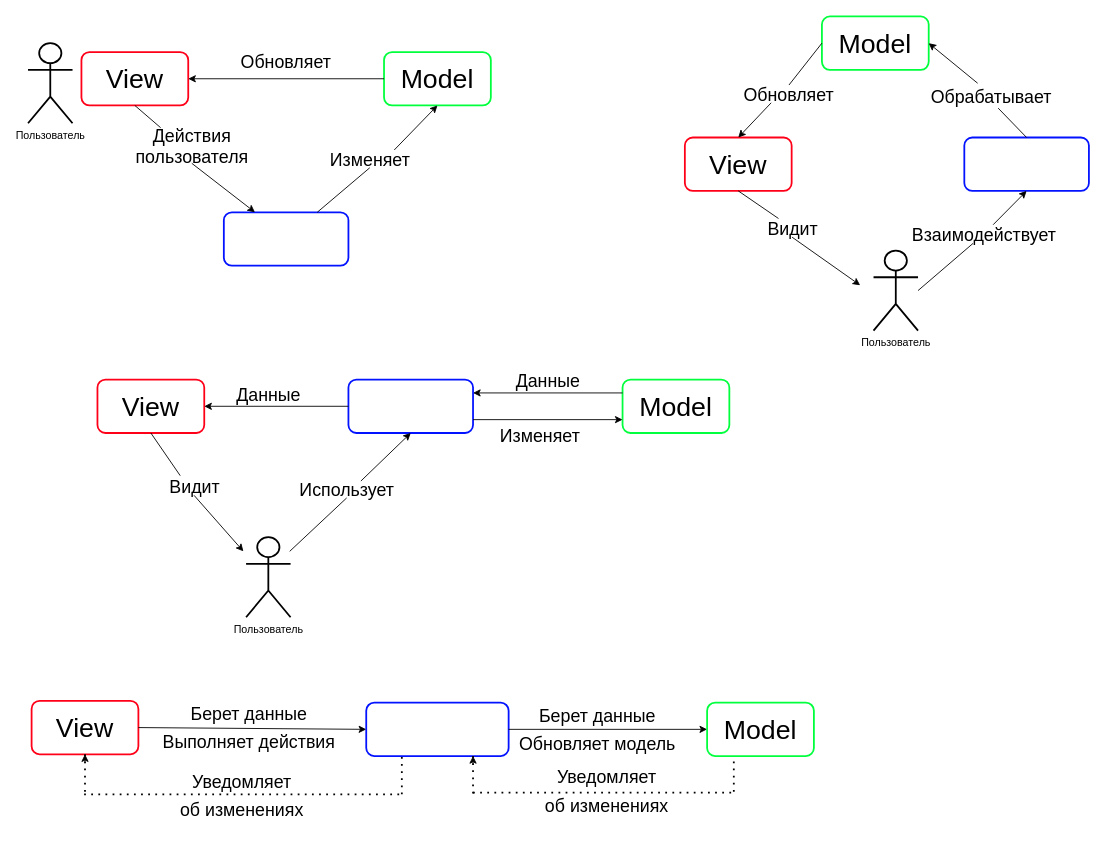
The diagram is 1104 pixels wide and 851 high, and some of its shapes have lost their labels. The box of each missing label's shape, as (x1, y1, x2, y2) in pixels:
Controller: (222, 211, 349, 266)
Intent: (963, 136, 1089, 191)
Presenter: (347, 378, 473, 433)
ViewModel: (365, 701, 509, 756)
